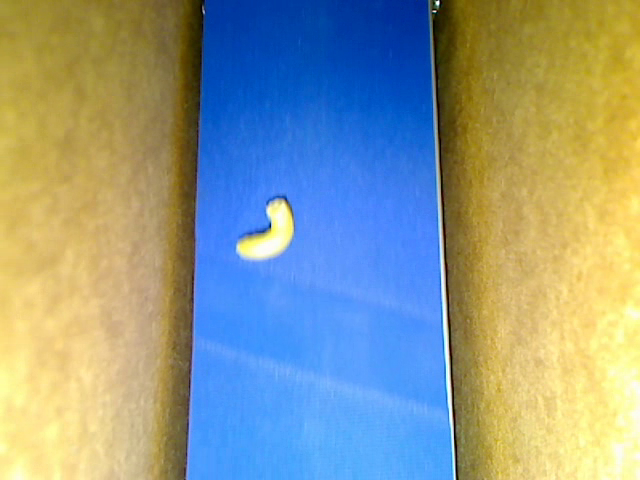elbow: (236, 198, 294, 261)
